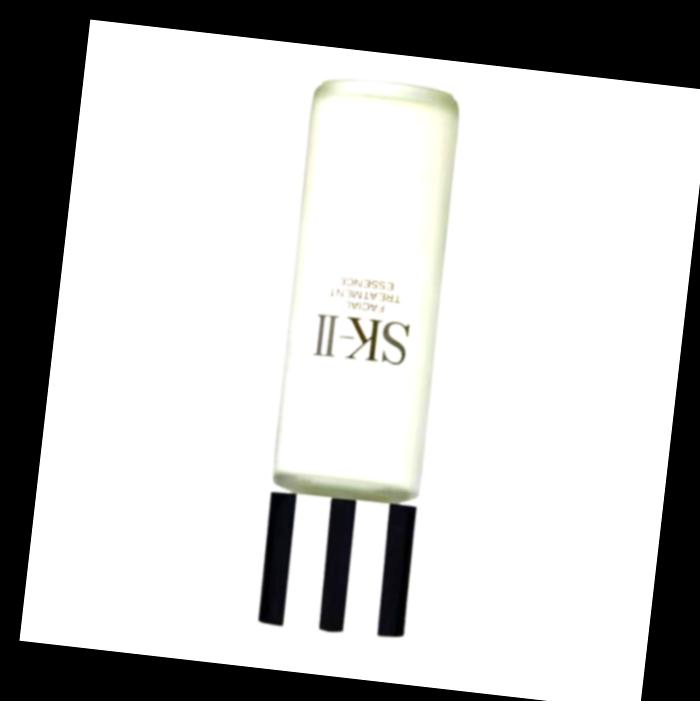cosmetic: (247, 70, 468, 637)
